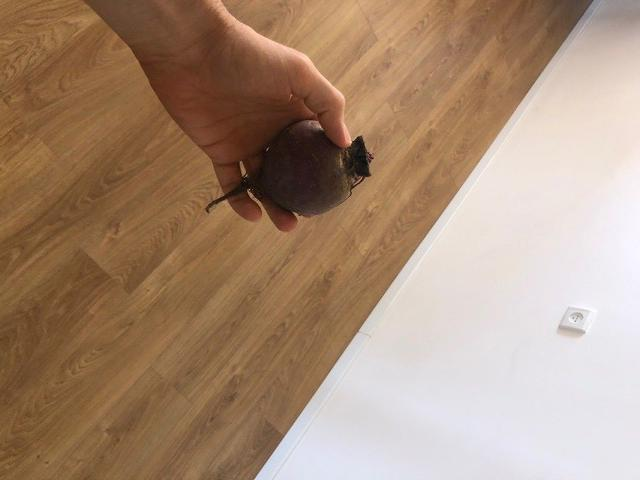beet: (205, 120, 369, 218)
